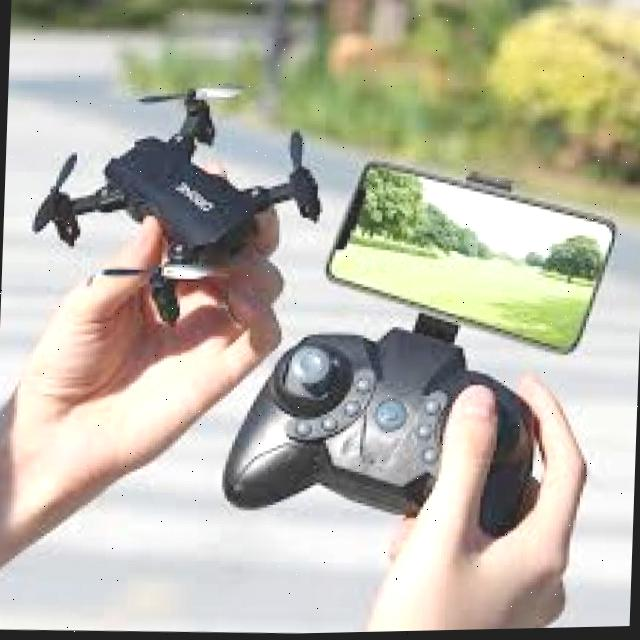drone: (31, 66, 350, 334)
